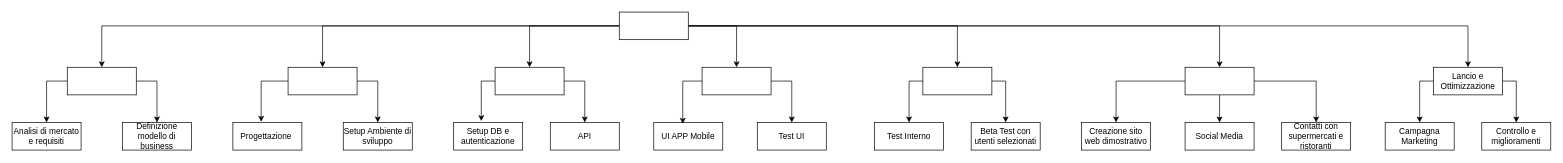
The diagram is 1563 pixels wide and 163 high, and some of its shapes have lost their labels. The box of each missing label's shape, as (x1, y1, x2, y2) in pixels:
Analisi e Pianificazione: (67, 67, 136, 95)
Design e Architettura: (287, 67, 357, 95)
Marketing e Partnership: (1184, 67, 1254, 95)
SprecoZero: (619, 11, 688, 40)
Sviluppo Backend: (494, 67, 564, 95)
Sviluppo Frontend: (701, 67, 771, 95)
Test e Feedback: (922, 67, 992, 95)
